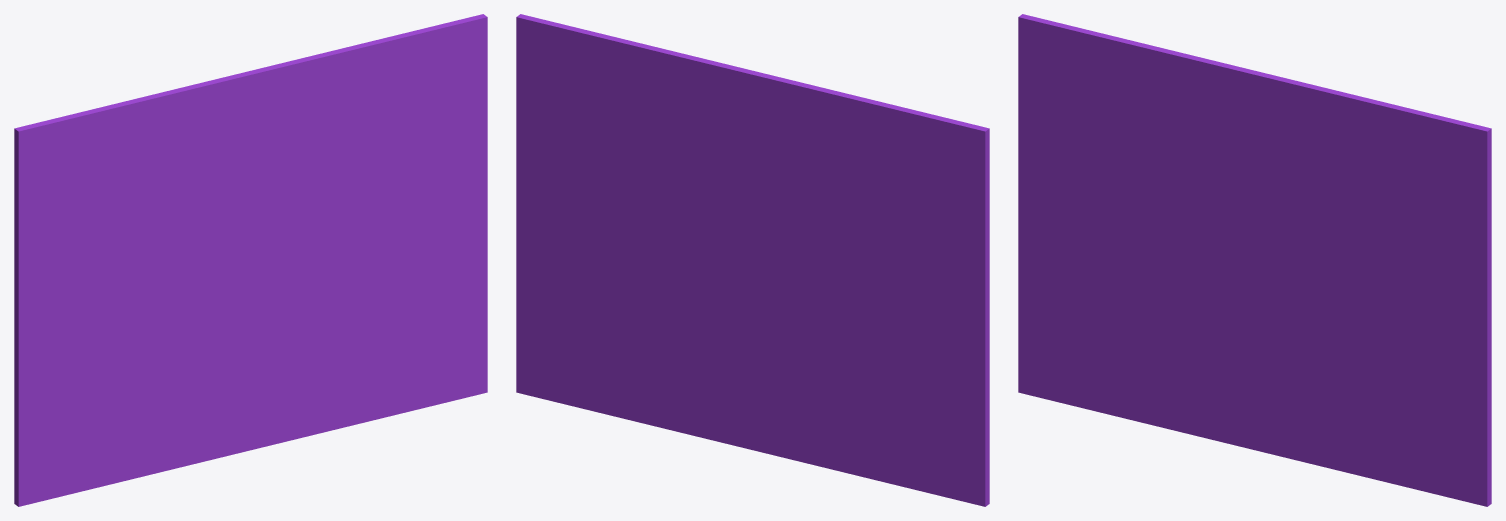
The model's file is Glass_1_chunks.fbx.
3 views of the same model, side by side, from view 1: azimuth 30°, elevation 25°; view 2: azimuth 150°, elevation 25°; view 3: azimuth 330°, elevation 25° (orthographic).
Visible parts, largest first — view 1: Glass_1_1, Glass_1_0, Glass_1_4, Glass_1_2, Glass_1_5, Glass_1_6; view 2: Glass_1_1, Glass_1_0, Glass_1_4, Glass_1_2, Glass_1_5, Glass_1_3, Glass_1_6; view 3: Glass_1_1, Glass_1_0, Glass_1_4, Glass_1_2, Glass_1_5, Glass_1_6.
Part boxes in pixels (bbox=[...]): Glass_1_1: bbox=[253, 14, 487, 394]; Glass_1_0: bbox=[14, 100, 253, 490]; Glass_1_4: bbox=[206, 265, 478, 447]; Glass_1_2: bbox=[129, 48, 343, 250]; Glass_1_5: bbox=[14, 385, 262, 506]; Glass_1_6: bbox=[82, 290, 228, 429]; Glass_1_1: bbox=[516, 14, 745, 392]; Glass_1_0: bbox=[757, 97, 989, 487]; Glass_1_4: bbox=[518, 262, 796, 446]; Glass_1_2: bbox=[656, 50, 871, 264]; Glass_1_5: bbox=[741, 384, 989, 506]; Glass_1_3: bbox=[761, 269, 833, 390]; Glass_1_6: bbox=[827, 339, 923, 425]; Glass_1_1: bbox=[1253, 94, 1491, 506]; Glass_1_0: bbox=[1018, 14, 1252, 376]; Glass_1_4: bbox=[1206, 265, 1478, 504]; Glass_1_2: bbox=[1137, 42, 1350, 250]; Glass_1_5: bbox=[1018, 346, 1261, 451]; Glass_1_6: bbox=[1082, 277, 1228, 362].
Bounding box in the file's own units: 1728 × 1321 × 27.2.
